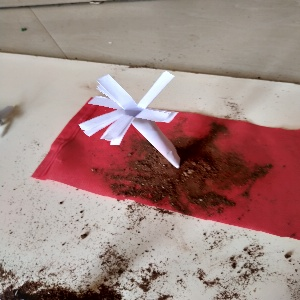weed: (76, 71, 186, 183)
